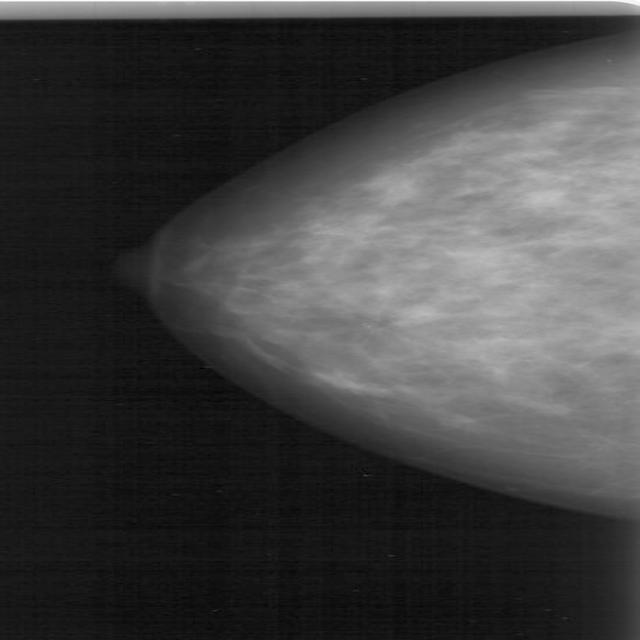tumour: (384, 303, 441, 326)
